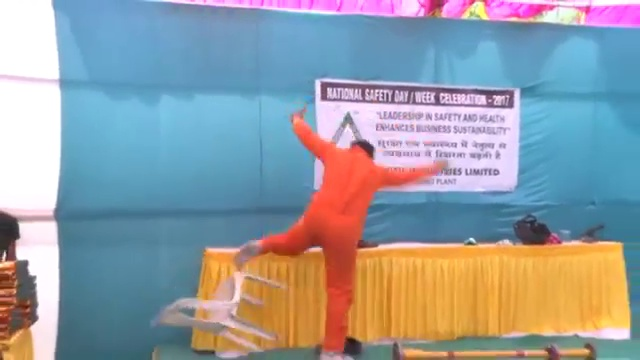helmet_off: (348, 136, 376, 161)
person: (246, 110, 448, 360)
